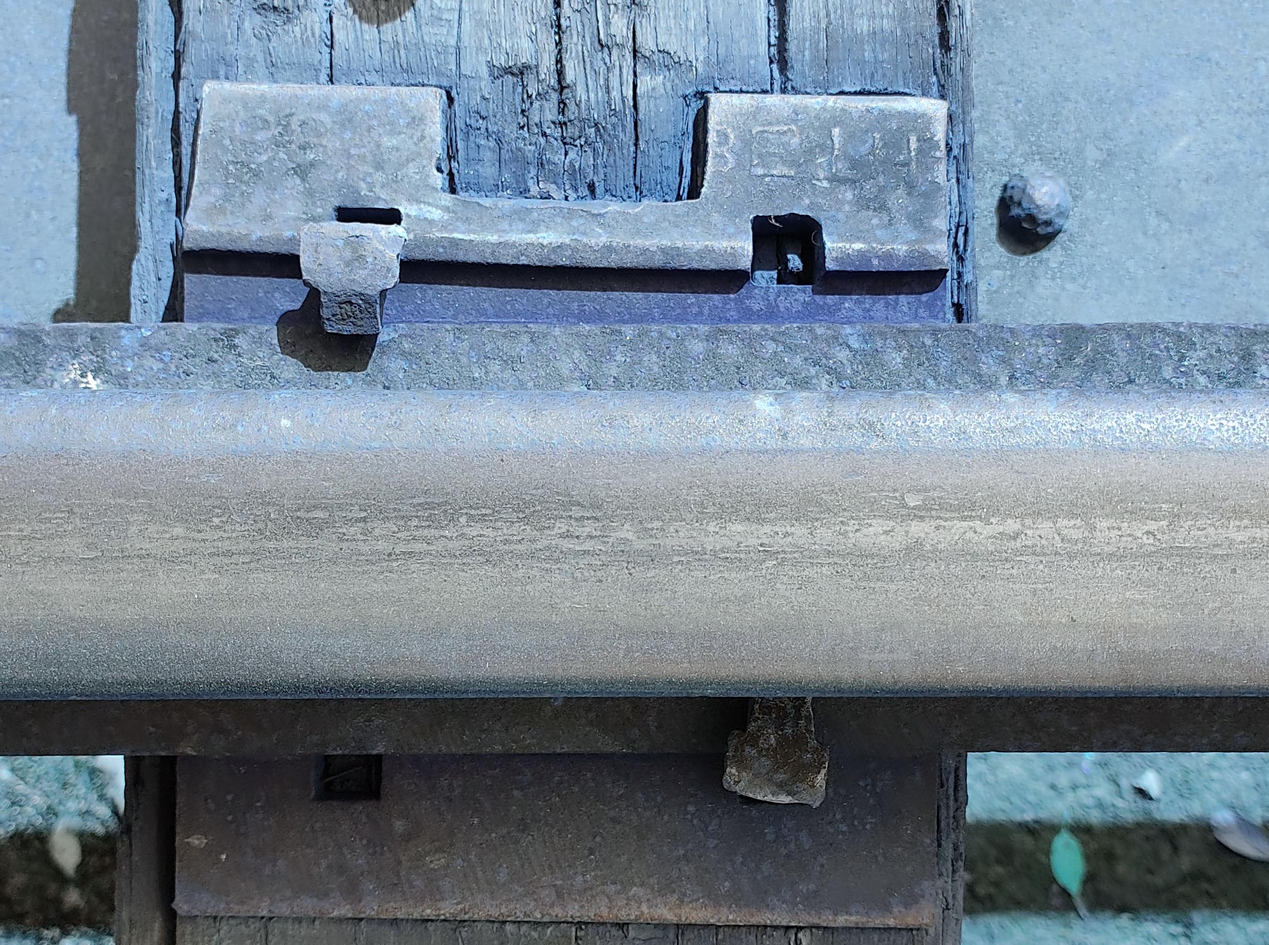loss2: (720, 197, 853, 298), (305, 732, 403, 817)
